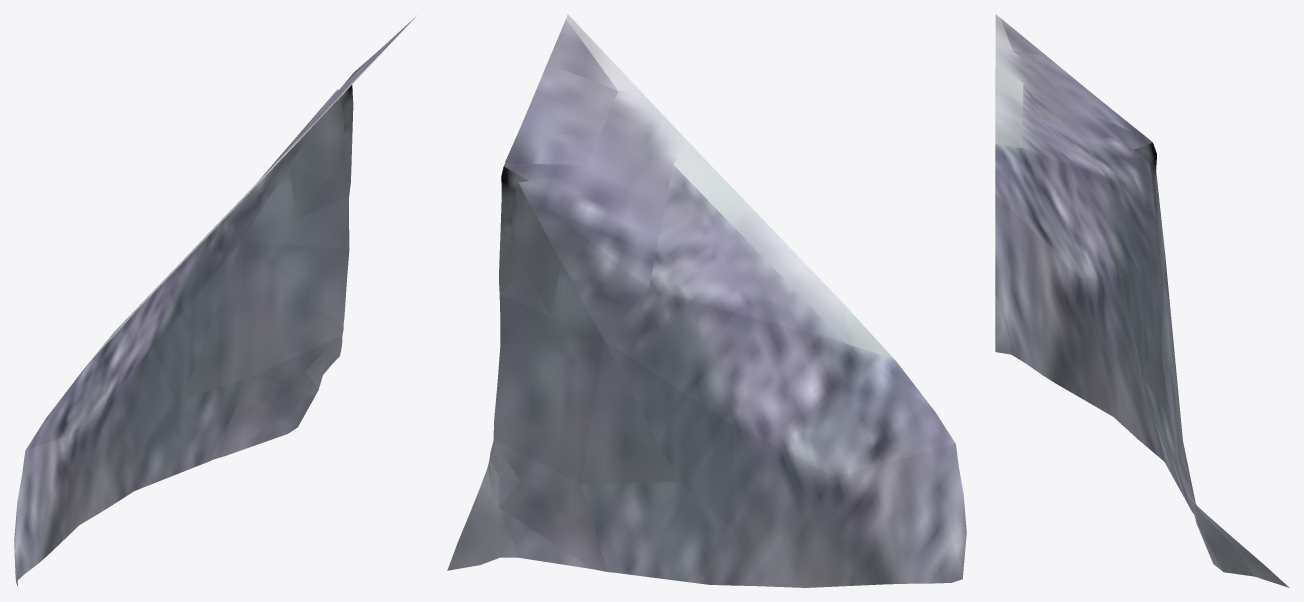
File: Tile_+008_+007_L19_00170.glb
The picture shows the model from 3 angles, left to right: view 1: azimuth 30°, elevation 25°; view 2: azimuth 150°, elevation 25°; view 3: azimuth 270°, elevation 25°; orthographic projection. The views are drawn at different scales.
Parts seen in each view (by area): view 1: rtc; view 2: rtc; view 3: rtc.
Part boxes in pixels (<box>): rtc: <box>14,15,417,586</box>; rtc: <box>447,14,966,587</box>; rtc: <box>995,14,1289,587</box>.
Size of the model in its own units: 4.09 by 4.59 by 2.14.
Materials: 1 (1 with a texture image).
